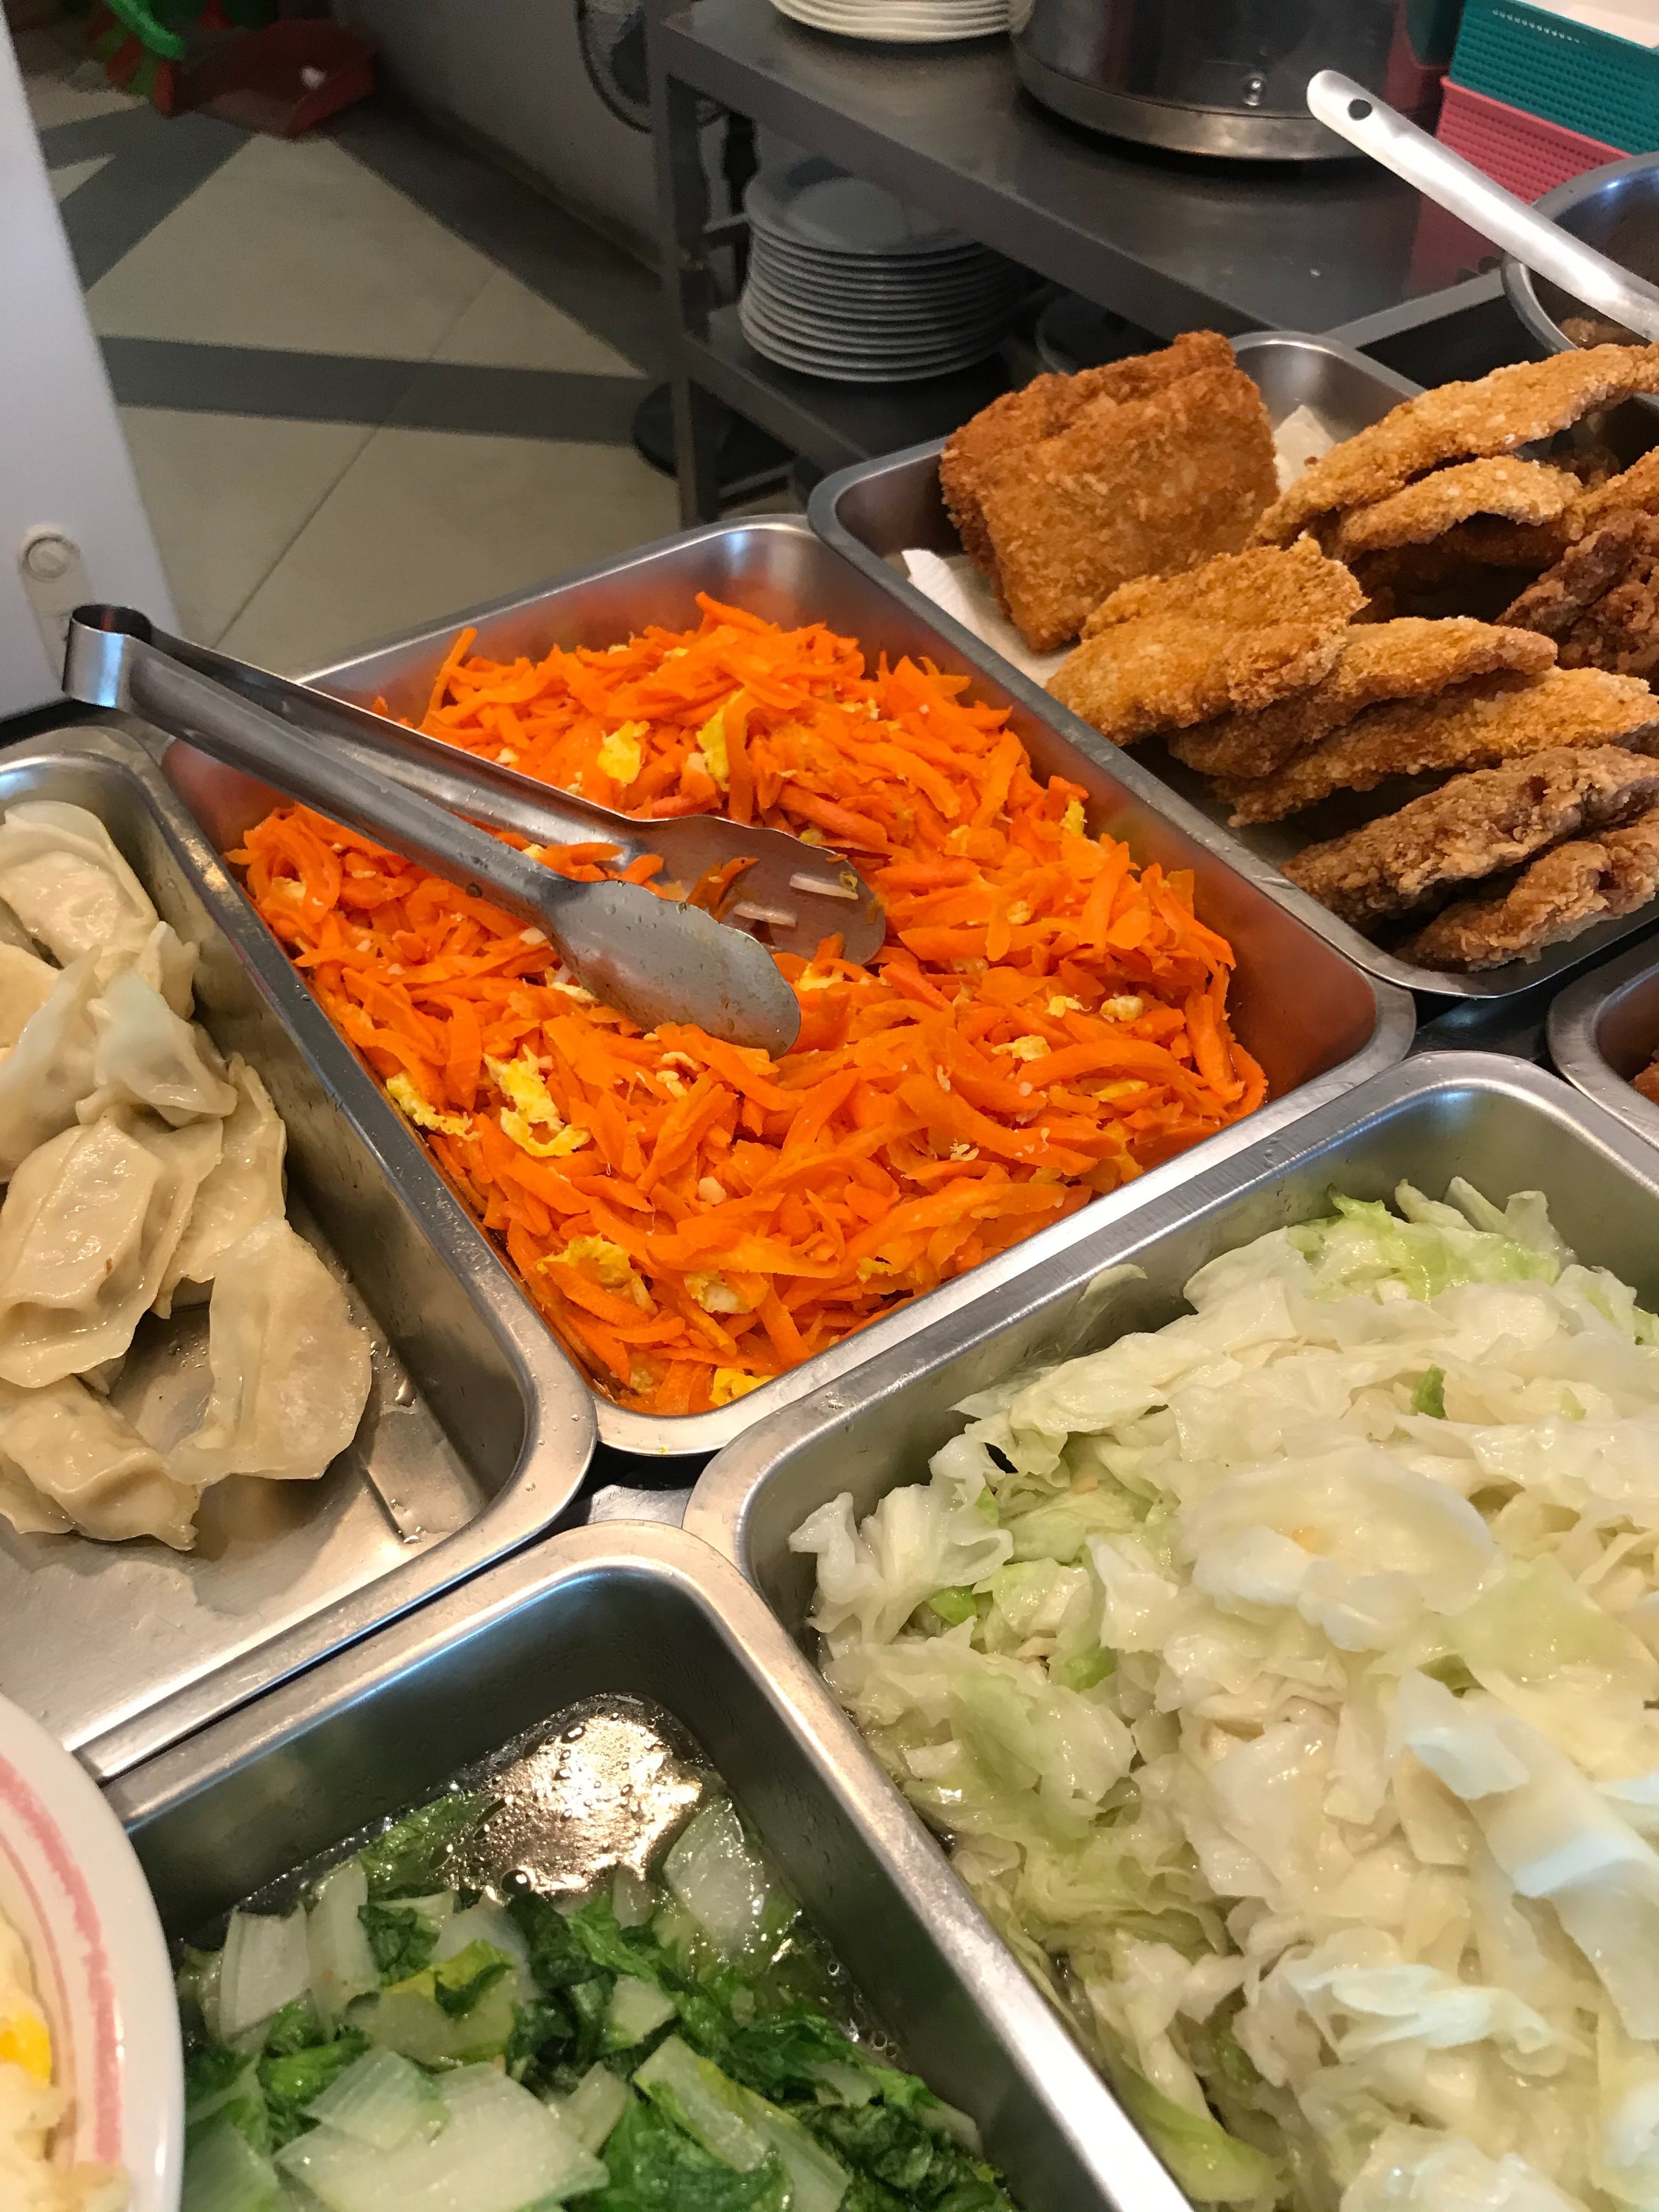carrot_eggs: (350, 644, 1141, 1249)
chinese_cabbage: (1002, 1252, 1659, 2212)
fried_dumplings: (0, 789, 258, 1559)
